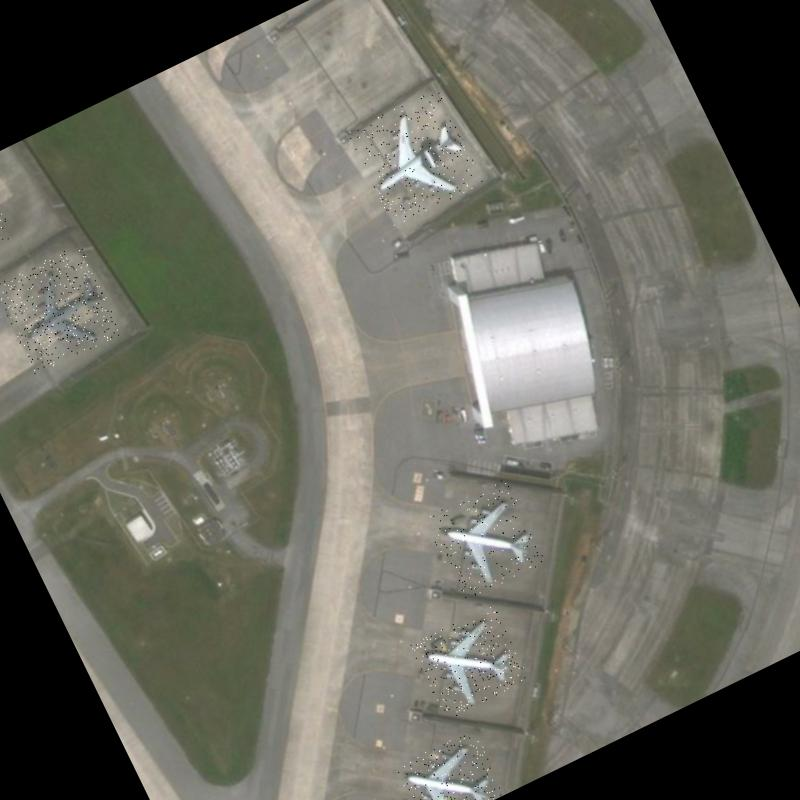A11: (423, 476, 548, 602), (410, 604, 530, 720), (393, 727, 505, 800)
A14: (0, 242, 123, 375)
A7: (347, 86, 485, 227)
